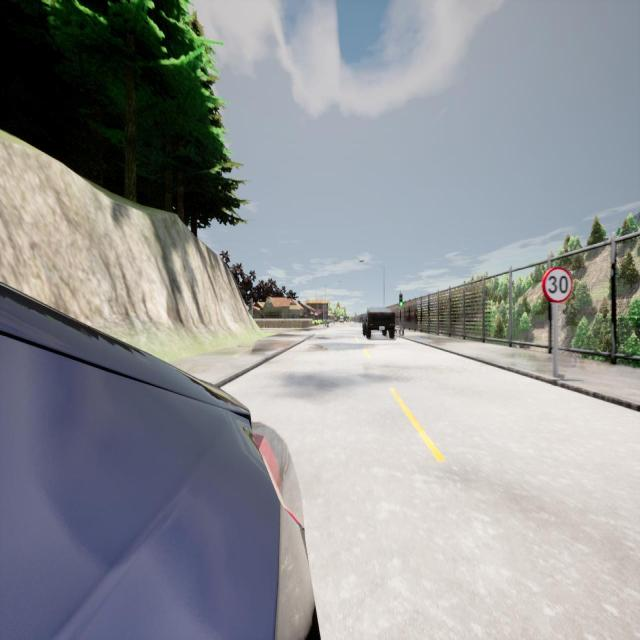Traffic_Signs: (543, 267, 573, 302)
Vehicle: (0, 284, 314, 638), (361, 306, 396, 340), (339, 316, 344, 323)
traffic_light: (399, 292, 403, 307), (249, 299, 252, 311)
